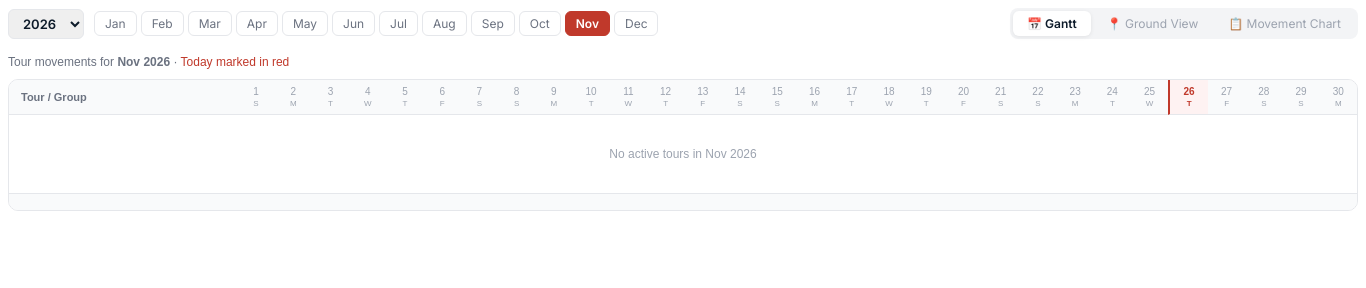
GanttView UI: Ground View tab › shows a genuine empty state when nothing is running on the chosen date
Click the button "📍 Ground View": (1152, 24) [1093,11,1212,36]
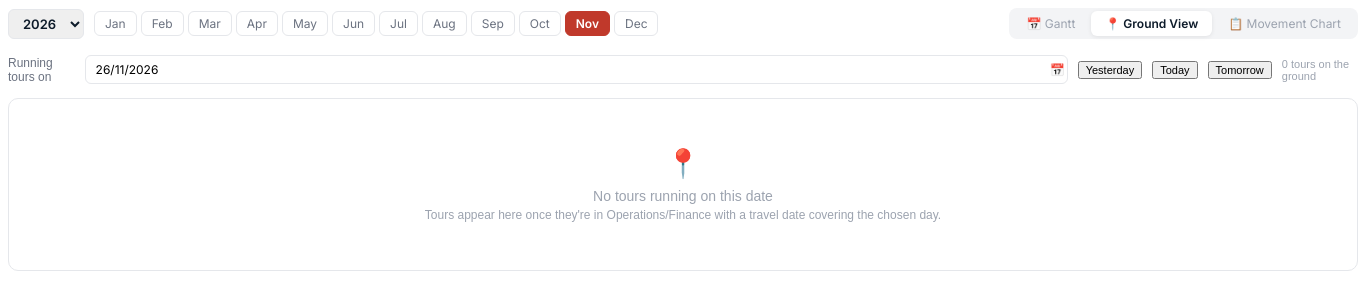
Check: the text "No tours running on this date" is shown, box [593,188,773,204]
